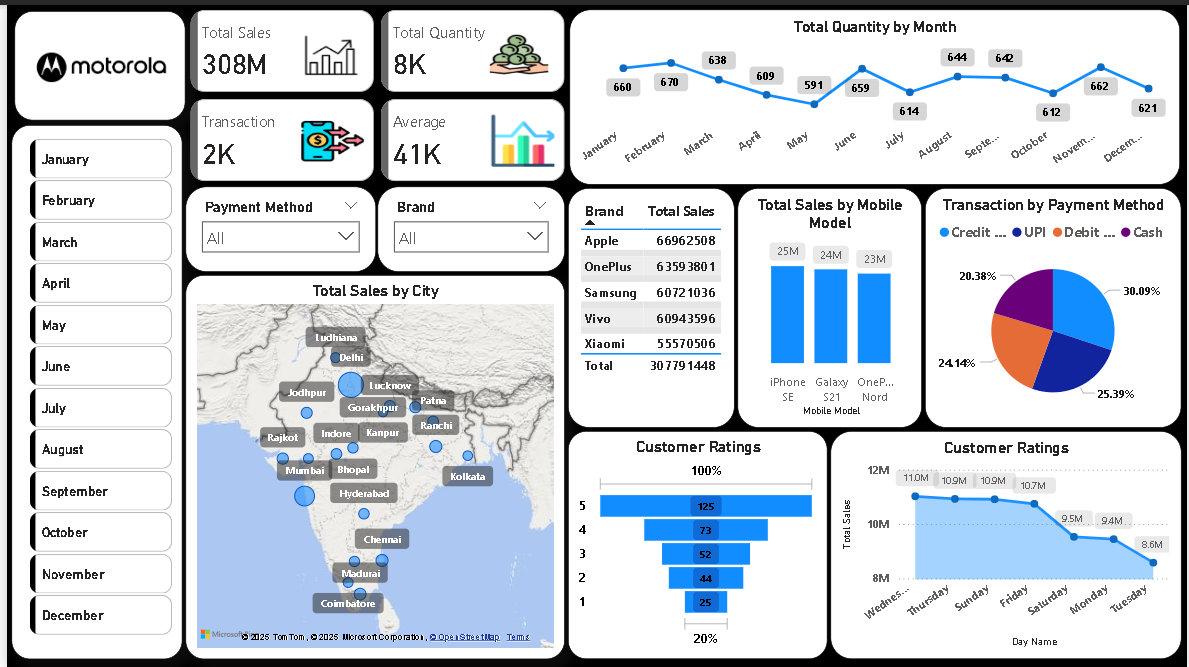

The dashboard page shown, as its layout file describes it:
{"tool":"powerbi","page":{"name":"Page 1","canvas":[1280,720],"ordinal":0},"visuals":[{"type":"shape","box":[8.1,6.5,185.4,118.7],"z":0},{"type":"image","box":[0,1.6,204.9,131.8],"z":1000},{"type":"shape","box":[4.9,130.1,185.4,579],"z":2000},{"type":"advancedSlicerVisual","fields":{"Values":["Sales_Data.Date.Variation.Date Hierarchy.Month"]},"box":[19.5,139.9,164.3,551.4],"z":3000},{"type":"cardVisual","fields":{"Data":["Sales_Data.Total Sales","Sales_Data.Total Quantity","Sales_Data.Transaction","Sales_Data.Average"]},"box":[193.6,0,416.4,196.8],"z":4000},{"type":"map","fields":{"Category":["Sales_Data.City"],"Size":["Sales_Data.Total Sales"]},"box":[193.6,292.8,411.5,416.4],"z":5000},{"type":"lineChart","fields":{"Y":["Sales_Data.Total Quantity"],"Category":["Sales_Data.Date.Variation.Date Hierarchy.Month","Sales_Data.Date.Variation.Date Hierarchy.Day"]},"box":[610,4.9,662,190.3],"z":6000},{"type":"clusteredColumnChart","fields":{"Category":["Sales_Data.Mobile Model"],"Y":["Sales_Data.Total Sales"]},"box":[792.1,198.4,200.1,260.2],"z":7000},{"type":"pieChart","fields":{"Category":["Sales_Data.Payment Method"],"Y":["Sales_Data.Transaction"]},"box":[995.4,198.4,278.1,260.2],"z":8000},{"type":"funnel","title":"Customer Ratings","fields":{"Category":["Sales_Data.Customer Ratings"],"Y":["CountNonNull(Sales_Data.Customer Ratings)"]},"box":[608.3,461.9,281.4,247.2],"z":9000},{"type":"areaChart","title":"Customer Ratings","fields":{"Category":["Sales_Data.Day Name"],"Y":["Sales_Data.Total Sales"]},"box":[893,461.9,380.6,247.2],"z":10000},{"type":"tableEx","fields":{"Values":["Sales_Data.Brand","Sales_Data.Total Sales"]},"box":[608.3,198.4,180.5,260.2],"z":11000},{"type":"slicer","fields":{"Values":["Sales_Data.Payment Method"]},"box":[193.6,196.8,206.6,92.7],"z":12000},{"type":"slicer","fields":{"Values":["Sales_Data.Brand"]},"box":[401.8,196.8,203.3,92.7],"z":13000}]}

Visuals, with their boxes in screenshot pixels (x1, y1, x2, y2), scaled from the page's 1280x720 canvas onto the 1189x667 screenshot:
shape: (8, 6, 180, 116)
image: (0, 1, 190, 124)
shape: (5, 121, 177, 657)
advancedSlicerVisual - Sales_Data.Date.Variation.Date Hierarchy.Month: (18, 130, 171, 640)
cardVisual - Sales_Data.Total Sales x Sales_Data.Total Quantity: (180, 0, 567, 182)
map - Sales_Data.City x Sales_Data.Total Sales: (180, 271, 562, 657)
lineChart - Sales_Data.Total Quantity x Sales_Data.Date.Variation.Date Hierarchy.Month: (567, 5, 1182, 181)
clusteredColumnChart - Sales_Data.Mobile Model x Sales_Data.Total Sales: (736, 184, 922, 425)
pieChart - Sales_Data.Payment Method x Sales_Data.Transaction: (925, 184, 1183, 425)
"Customer Ratings" funnel: (565, 428, 826, 657)
"Customer Ratings" areaChart: (830, 428, 1183, 657)
tableEx - Sales_Data.Brand x Sales_Data.Total Sales: (565, 184, 733, 425)
slicer - Sales_Data.Payment Method: (180, 182, 372, 268)
slicer - Sales_Data.Brand: (373, 182, 562, 268)
